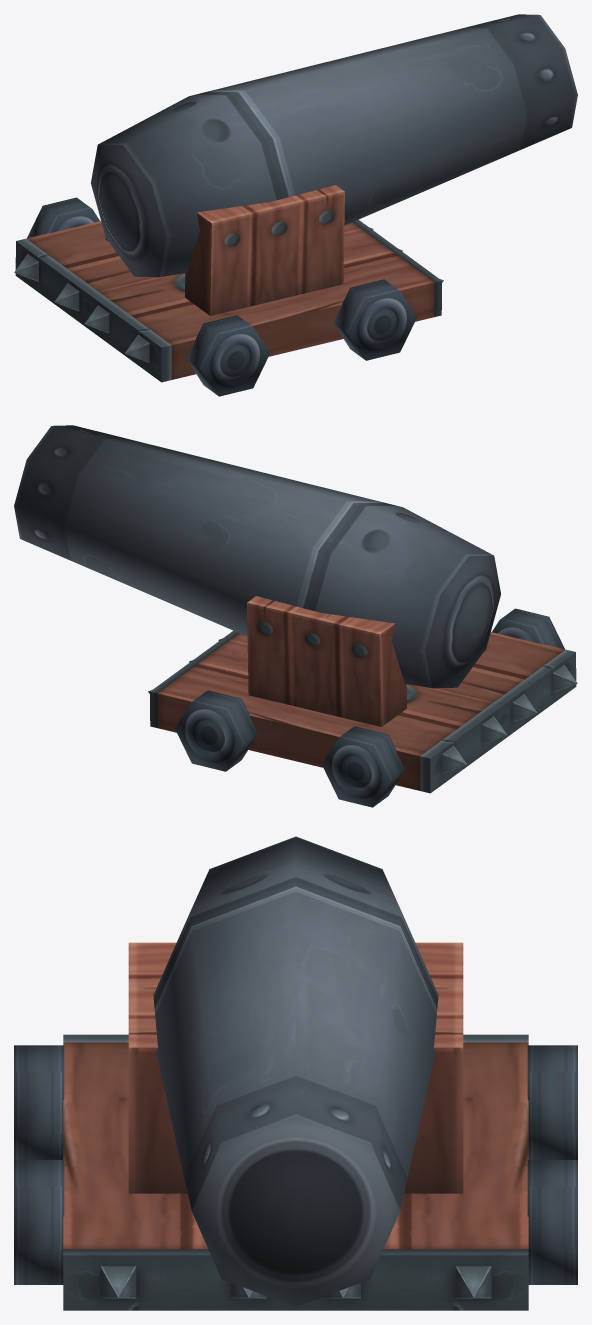
File: cannon_03.fbx
3 renders of one model, top to bottom at view 1: azimuth 30°, elevation 25°; view 2: azimuth 150°, elevation 25°; view 3: azimuth 270°, elevation 25°, orthographic. The views are drawn at different scales.
Visible parts, largest first — view 1: cannon_03:Mesh; view 2: cannon_03:Mesh; view 3: cannon_03:Mesh.
Part boxes in pixels (x1,y1,x2,y2): cannon_03:Mesh: (14, 14, 577, 396); cannon_03:Mesh: (14, 425, 577, 807); cannon_03:Mesh: (14, 836, 577, 1310).
Size of the model in its own units: 1.67 by 0.7212 by 1.06.
Materials: 1 (1 with a texture image).
